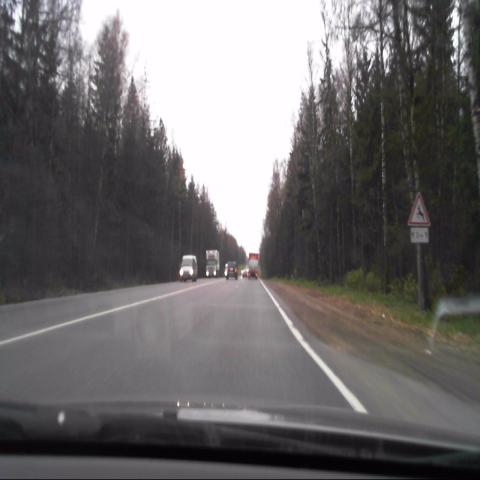1_27: (406, 189, 432, 227)
